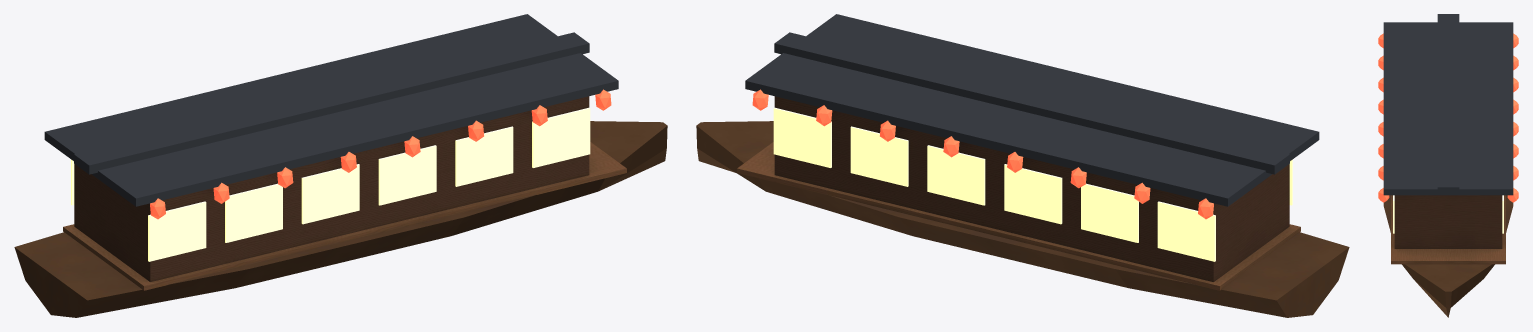
The model's file is yakatabune_tex.glb.
3 views of the same model, side by side, from view 1: azimuth 30°, elevation 25°; view 2: azimuth 150°, elevation 25°; view 3: azimuth 270°, elevation 25° (orthographic). The views are drawn at different scales.
Visible parts, largest first — view 1: yakatabune; view 2: yakatabune; view 3: yakatabune.
Part boxes in pixels (x1=…): yakatabune: x1=14, y1=14, x2=667, y2=317; yakatabune: x1=696, y1=14, x2=1349, y2=317; yakatabune: x1=1378, y1=14, x2=1518, y2=317.
Bounding box in the file's own units: 14 × 3.35 × 3.91.
Materials: 6 (3 with a texture image).
